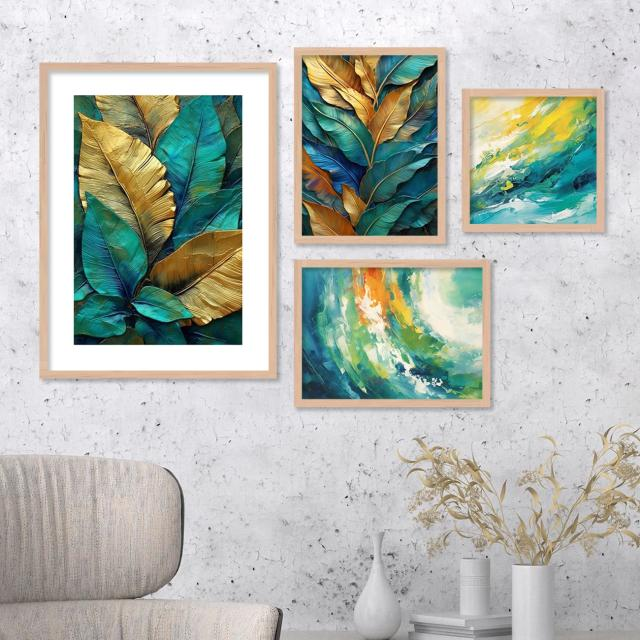painting: (40, 60, 276, 377), (292, 45, 446, 243), (295, 258, 491, 407), (461, 86, 606, 233)
